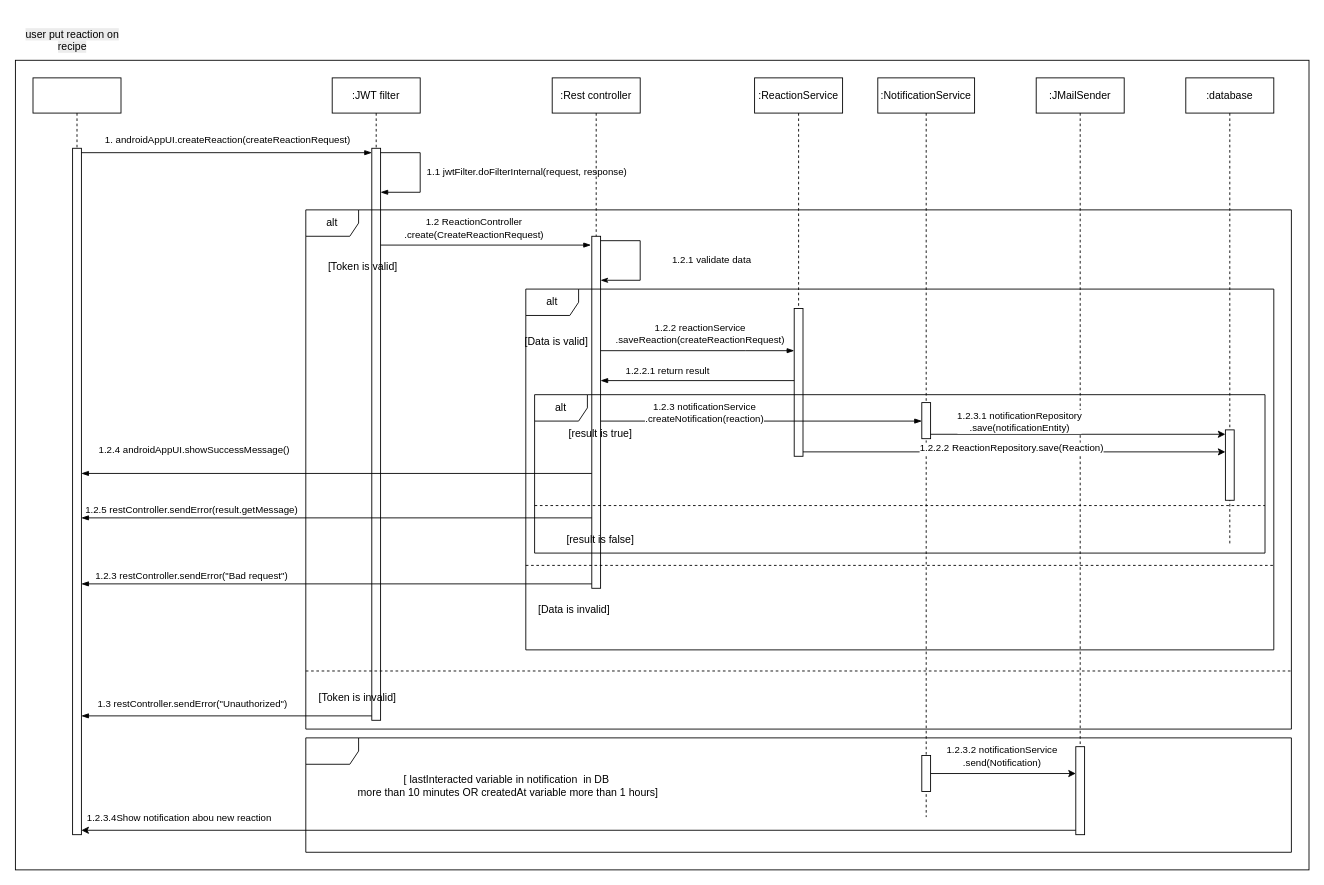
This 1324x885 diagram has some shape labels left out. The box of each missing label's shape, as (x1, y1, x2, y2) in pixels:
:Android app UI: (32, 77, 121, 509)
opt: (305, 737, 1291, 852)
